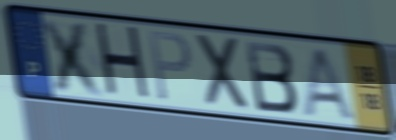A: (299, 46, 360, 124)
B: (242, 38, 300, 116)
H: (92, 20, 155, 106)
P: (146, 28, 194, 104)
X: (37, 15, 109, 99), (193, 31, 254, 114)
